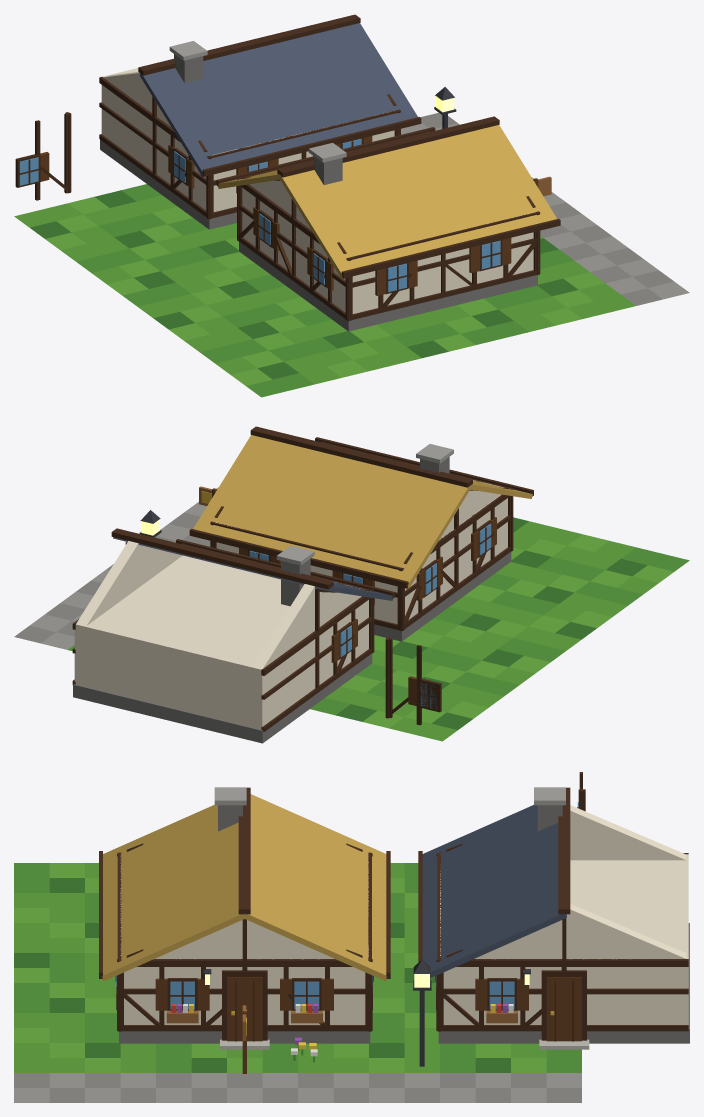
Rendered from chunk_1_10.glb.
3 views of the same model, one above another, from view 1: azimuth 30°, elevation 25°; view 2: azimuth 150°, elevation 25°; view 3: azimuth 270°, elevation 25° (orthographic). The views are drawn at different scales.
Visible parts, largest first — view 1: chunk_1_10; view 2: chunk_1_10; view 3: chunk_1_10.
Boxes of the visible parts, x1,y1,x2,y2 form: chunk_1_10: (14, 14, 689, 397); chunk_1_10: (14, 426, 689, 743); chunk_1_10: (14, 772, 689, 1102).
Bounding box in the file's own units: 16 × 4.94 × 19.04.
